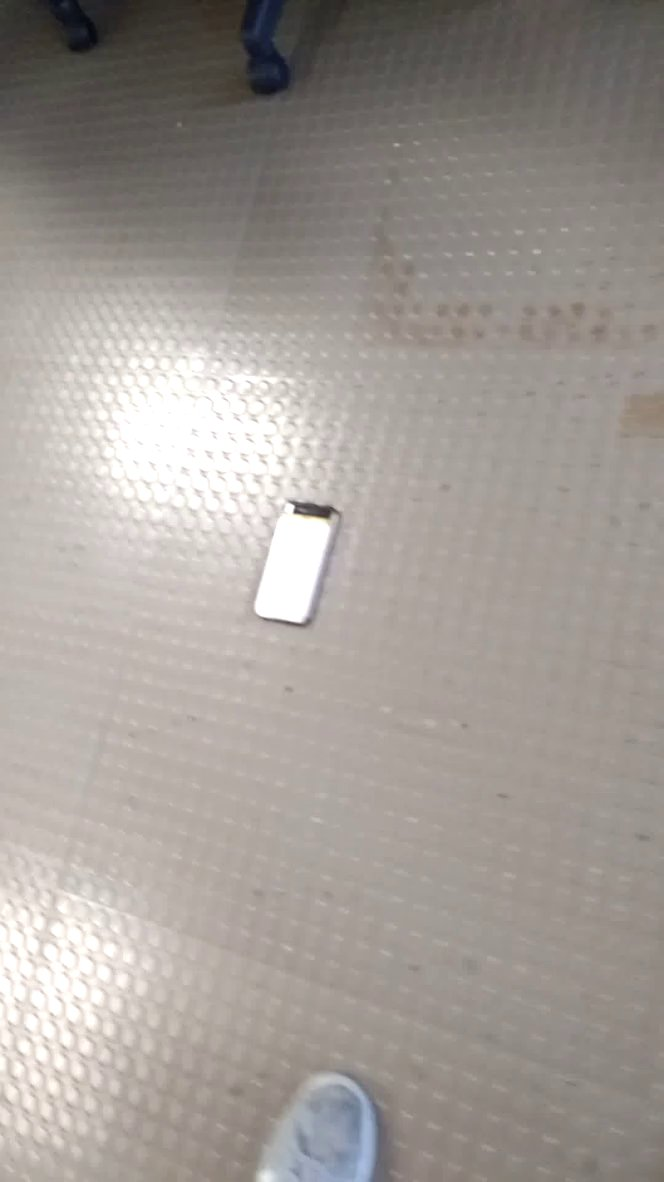phone: (247, 486, 354, 635)
